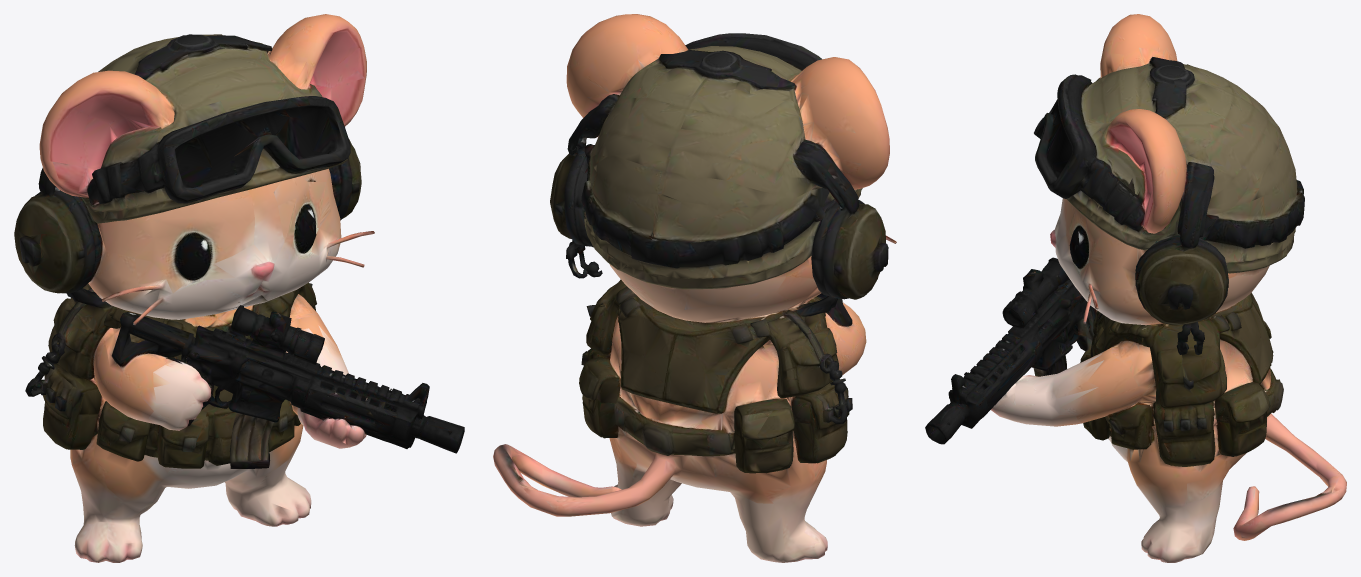
The model's file is hamster_meshy.glb.
The picture shows the model from 3 angles, left to right: view 1: azimuth 30°, elevation 25°; view 2: azimuth 150°, elevation 25°; view 3: azimuth 270°, elevation 25°; orthographic projection. The views are drawn at different scales.
Parts seen in each view (by area): view 1: hamster_meshy; view 2: hamster_meshy; view 3: hamster_meshy.
Part boxes in pixels (x1,y1,x2,y2): hamster_meshy: (14, 14, 464, 562); hamster_meshy: (493, 14, 896, 562); hamster_meshy: (925, 14, 1346, 562).
Bounding box in the file's own units: 0.9162 × 1.25 × 1.07.
1 material, 1 textured.
